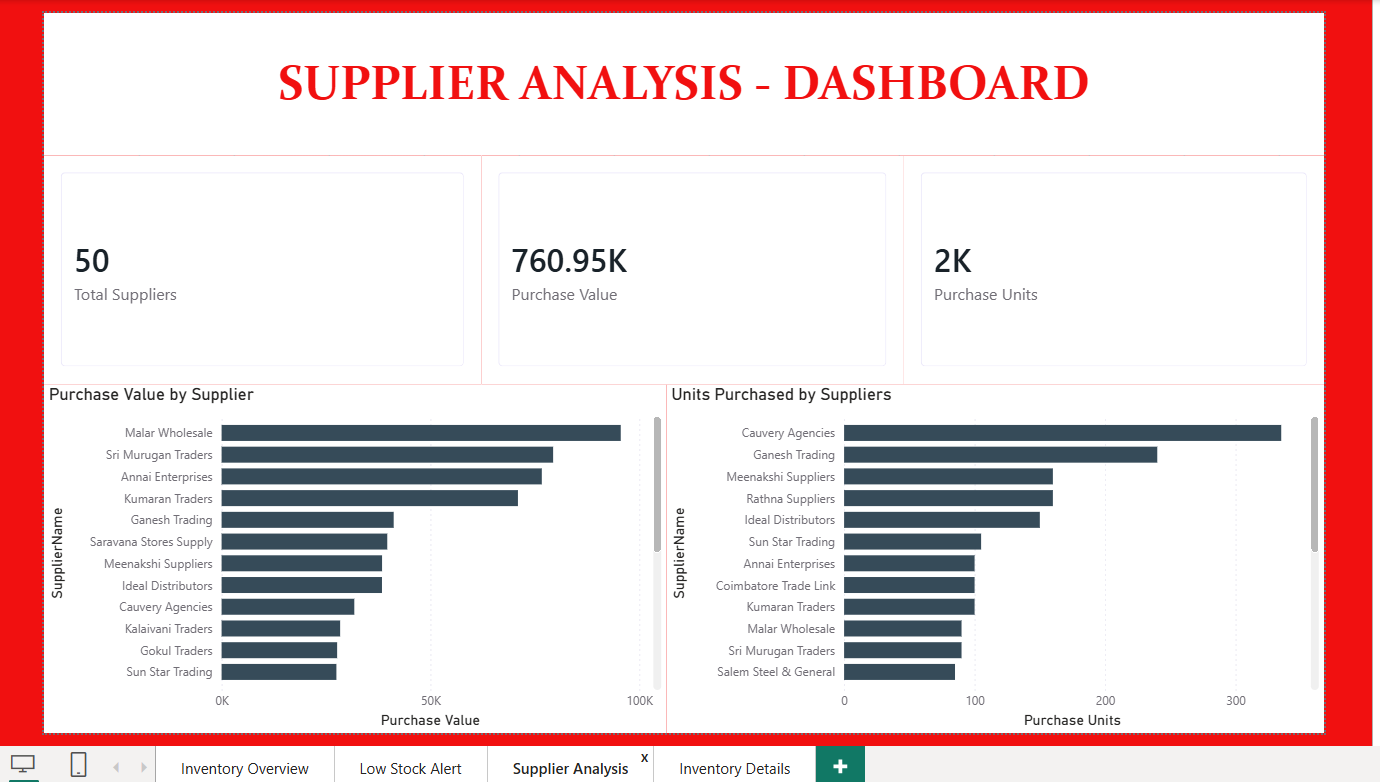

Layout of this report page (visuals, bound fields, positions):
{"tool":"powerbi","page":{"name":"Supplier Analysis","canvas":[1280,720],"ordinal":2},"visuals":[{"type":"cardVisual","fields":{"Data":["Suppliers.Total Suppliers"]},"box":[0,142.5,437.5,228.8],"z":0},{"type":"cardVisual","fields":{"Data":["Sales.Purchase Value"]},"box":[437.5,142.5,422.5,228.8],"z":1000},{"type":"cardVisual","fields":{"Data":["Sales.Purchase Units"]},"box":[860,142.5,420,228.8],"z":2000},{"type":"textbox","box":[0,0,1280,142.5],"z":3000},{"type":"clusteredBarChart","title":"Purchase Value by Supplier","fields":{"Category":["Suppliers.SupplierName"],"Y":["Sales.Purchase Value"]},"box":[0,371.2,622.5,348.8],"z":4000},{"type":"clusteredBarChart","title":"Units Purchased by Suppliers","fields":{"Category":["Suppliers.SupplierName"],"Y":["Sales.Purchase Units"]},"box":[622.5,371.2,657.5,348.8],"z":5000}]}

Visuals, with their boxes on the page's 1280x720 design canvas (x1, y1, x2, y2). These are canvas units, not pixel positions in the 1380x782 screenshot, which may show the page scaled, cropped or inside an application window:
cardVisual - Suppliers.Total Suppliers: bbox(0, 142, 438, 371)
cardVisual - Sales.Purchase Value: bbox(438, 142, 860, 371)
cardVisual - Sales.Purchase Units: bbox(860, 142, 1280, 371)
textbox: bbox(0, 0, 1280, 142)
"Purchase Value by Supplier" clusteredBarChart: bbox(0, 371, 622, 720)
"Units Purchased by Suppliers" clusteredBarChart: bbox(622, 371, 1280, 720)
